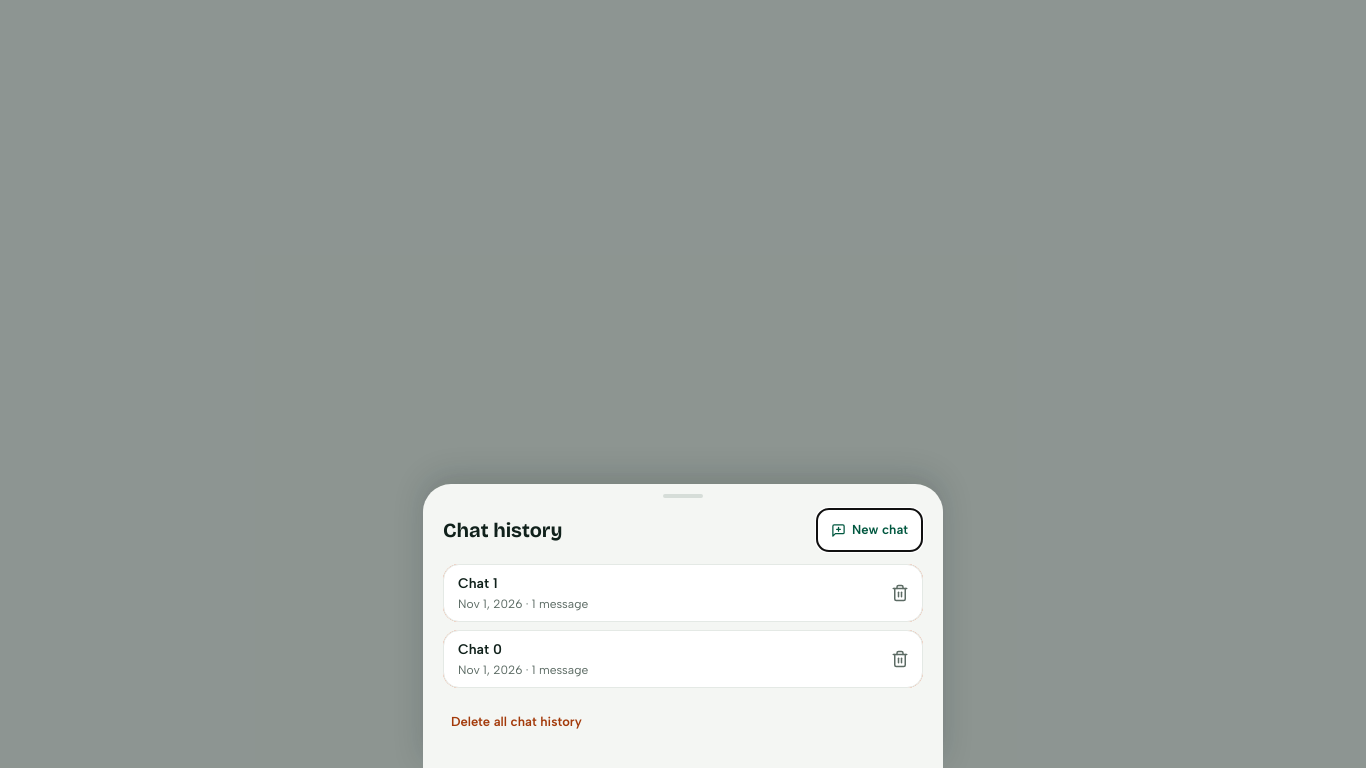
ChatHistorySheet › deletes with an undo toast; undo brings the chat back
Step 1. Click the 1st button with test id "chat-history-delete" → (900, 593), box [878, 565, 922, 621]
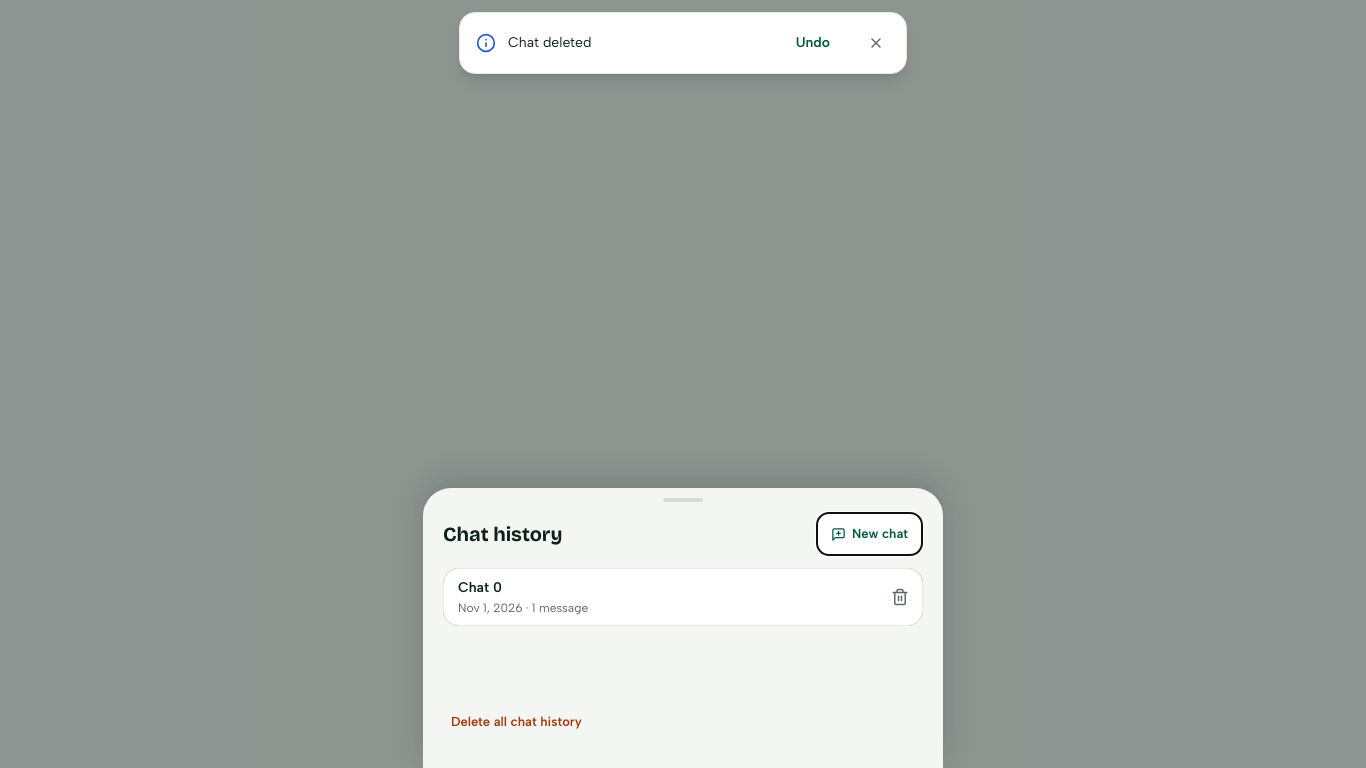
Now the number of buttons with test id "chat-history-item" is 1, box [444, 569, 874, 625]
Step 2. Click the button "Undo" → (813, 43), box [784, 21, 842, 65]
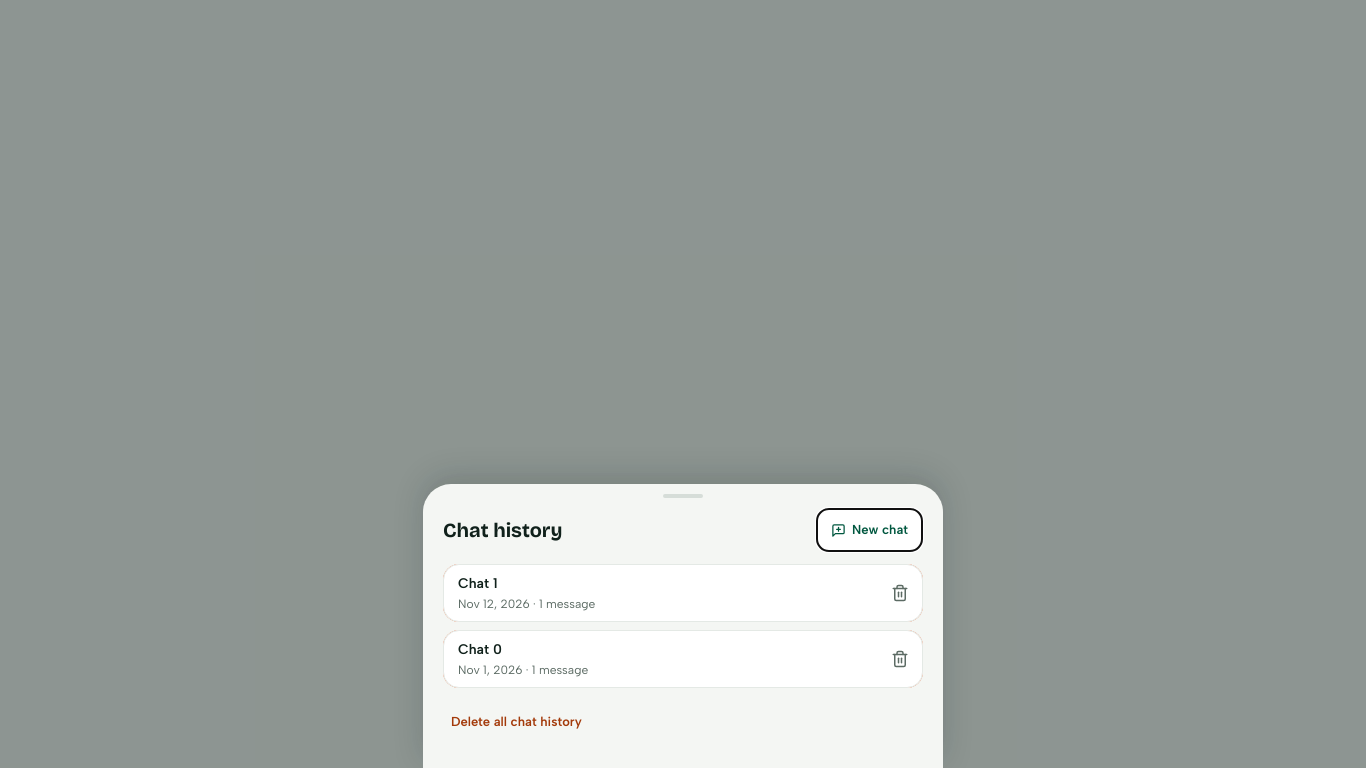
Now the number of buttons with test id "chat-history-item" is 2, box [444, 565, 874, 621]; [444, 631, 874, 687]
